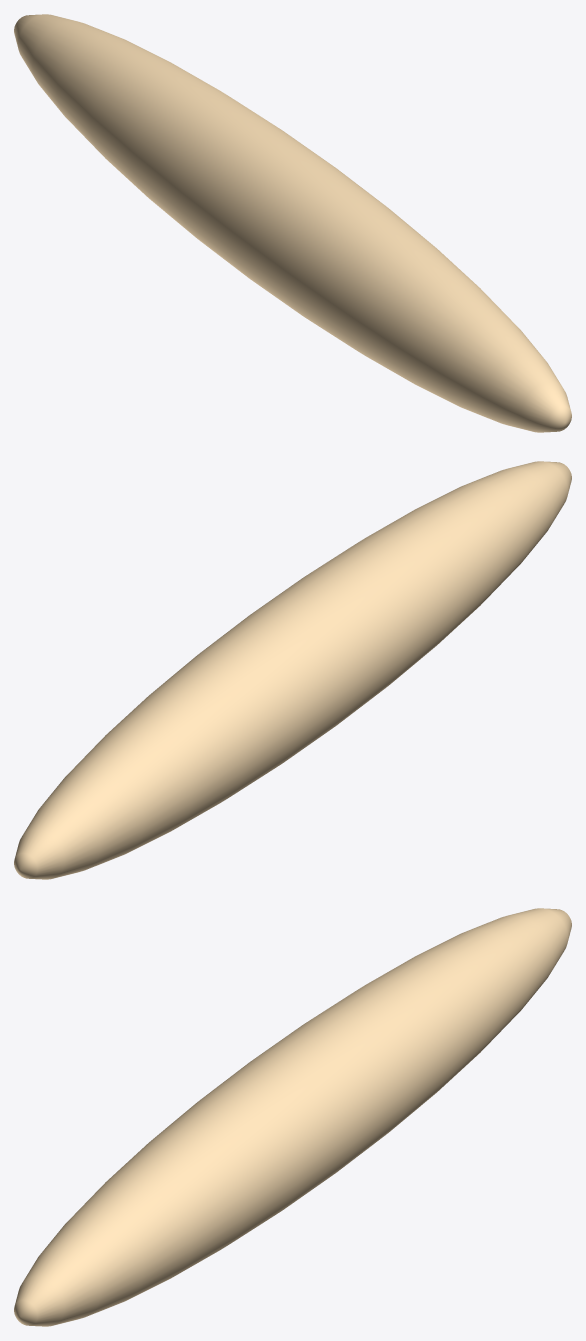
File: Worm.fbx
3 renders of one model, top to bottom at view 1: azimuth 30°, elevation 25°; view 2: azimuth 150°, elevation 25°; view 3: azimuth 330°, elevation 25°, orthographic.
Visible parts, largest first — view 1: Sphere.001; view 2: Sphere.001; view 3: Sphere.001.
Boxes of the visible parts, x1,y1,x2,y2 form: Sphere.001: [14, 14, 571, 432]; Sphere.001: [14, 461, 571, 879]; Sphere.001: [14, 908, 571, 1326].
Bounding box in the file's own units: 0.7812 × 0.7812 × 6.05.
